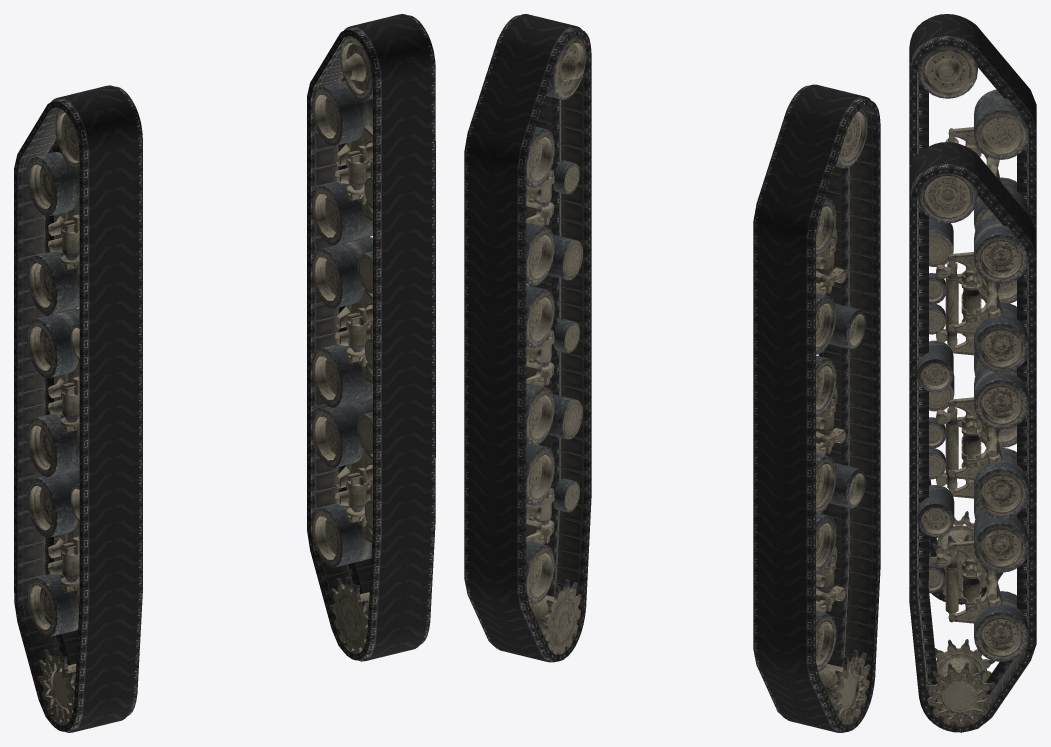
Rendered from Chassis.glb.
3 views of the same model, side by side, from view 1: azimuth 30°, elevation 25°; view 2: azimuth 150°, elevation 25°; view 3: azimuth 270°, elevation 25° (orthographic). The views are drawn at different scales.
Visible parts, largest first — view 1: set_1_group_0, set_0_group_0, set_3_group_0, set_2_group_0; view 2: set_1_group_0, set_0_group_0, set_3_group_0, set_2_group_0; view 3: set_3_group_0, set_0_group_0, set_2_group_0, set_1_group_0.
Part boxes in pixels (x1,y1,x2,y2): set_1_group_0: (14, 85, 142, 732); set_0_group_0: (307, 14, 435, 661); set_3_group_0: (312, 36, 428, 660); set_2_group_0: (26, 108, 135, 732); set_1_group_0: (753, 84, 880, 732); set_0_group_0: (464, 14, 591, 662); set_3_group_0: (489, 35, 586, 662); set_2_group_0: (777, 107, 870, 732); set_3_group_0: (917, 173, 1028, 732); set_0_group_0: (909, 142, 1036, 732); set_2_group_0: (917, 45, 1028, 604); set_1_group_0: (909, 14, 1036, 604).
Size of the model in its own units: 3.39 by 5.82 by 1.19.
Materials: 4 (4 with a texture image).
